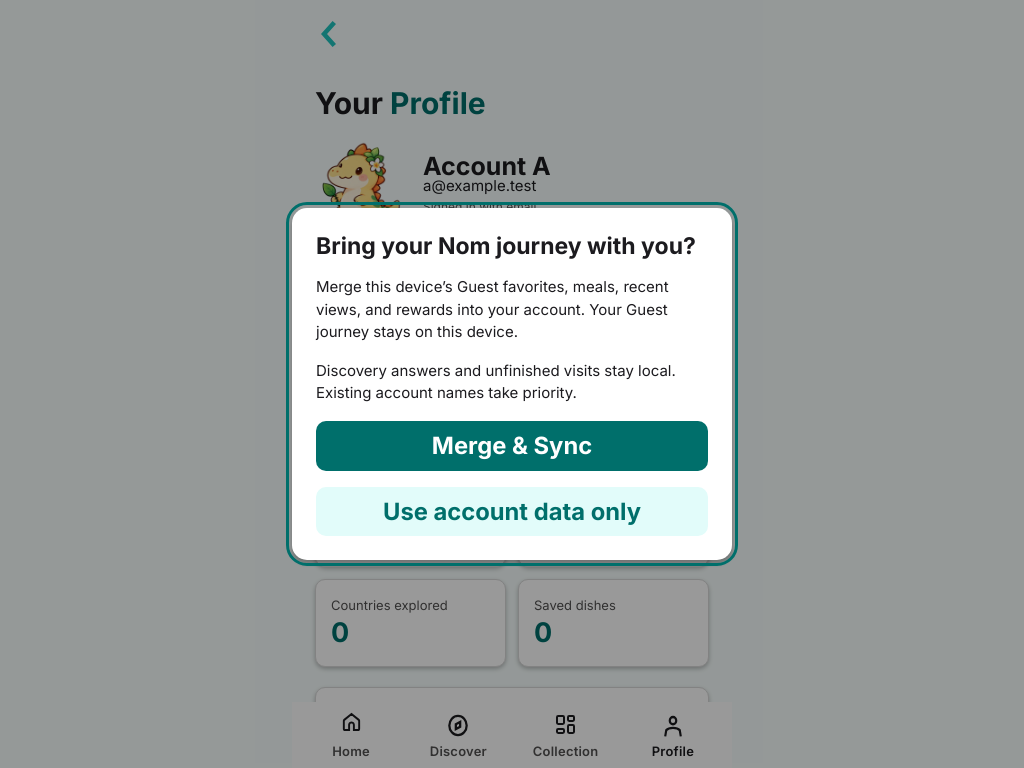
Test case: account routes and Guest-first entry › restores signed-in Profile identity and signout returns to Guest name
Expected: the dialog shows "Bring your Nom journey", [316,232,696,260]
Click the button "Use account data only".
click(512, 511)  # box [316,487,708,536]
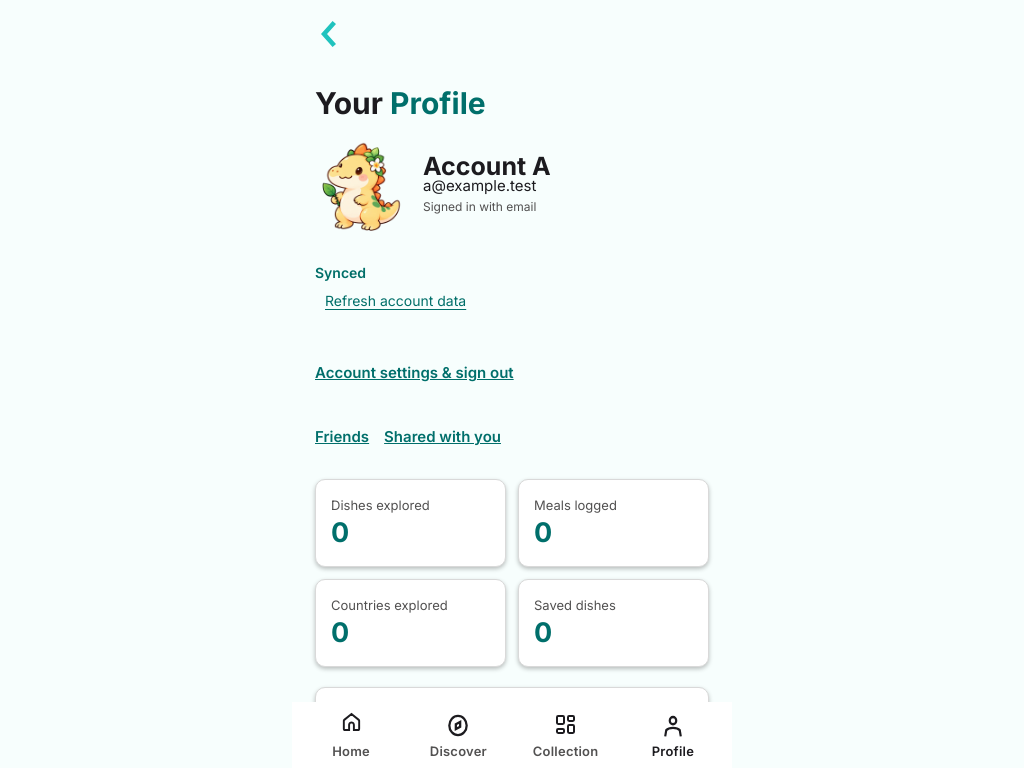
Expected: the text "Account A" is shown, [423,156,551,176]
Expected: the text "a@example.test" is shown, [423,176,551,196]
Click the link "Account settings & sign out".
click(414, 372)  # box [315,363,514,382]
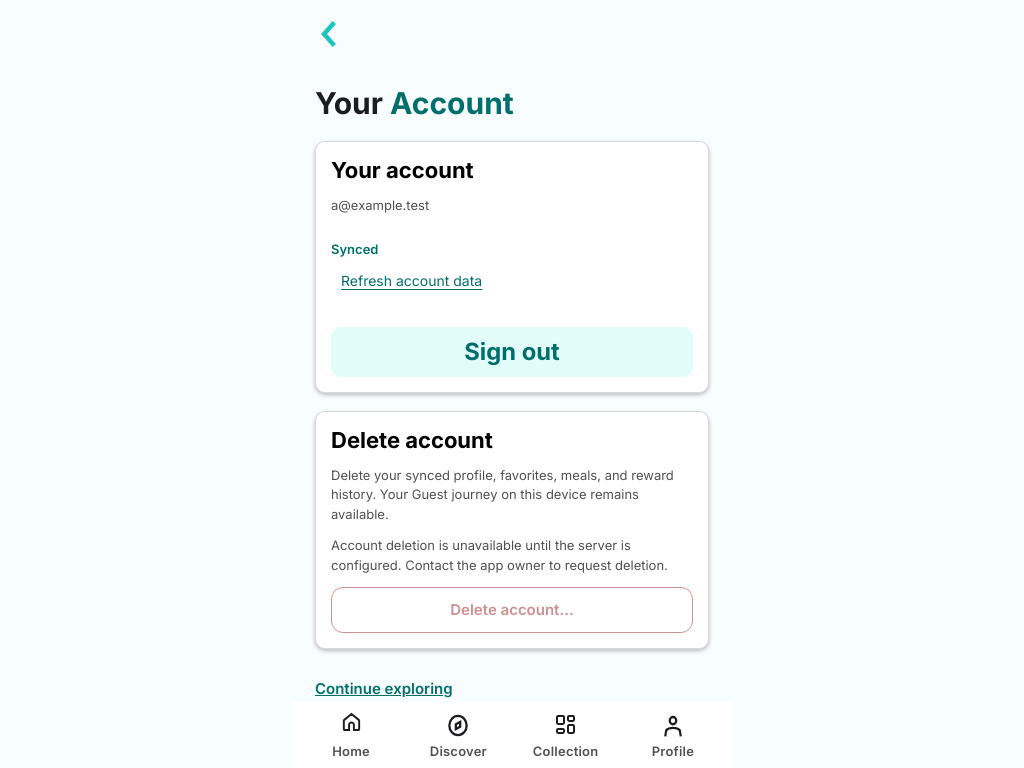
Expected: the text "Account deletion is unavailable" is shown, [331,537,668,573]
Click the button "Sign out".
click(512, 352)  # box [331,327,693,377]
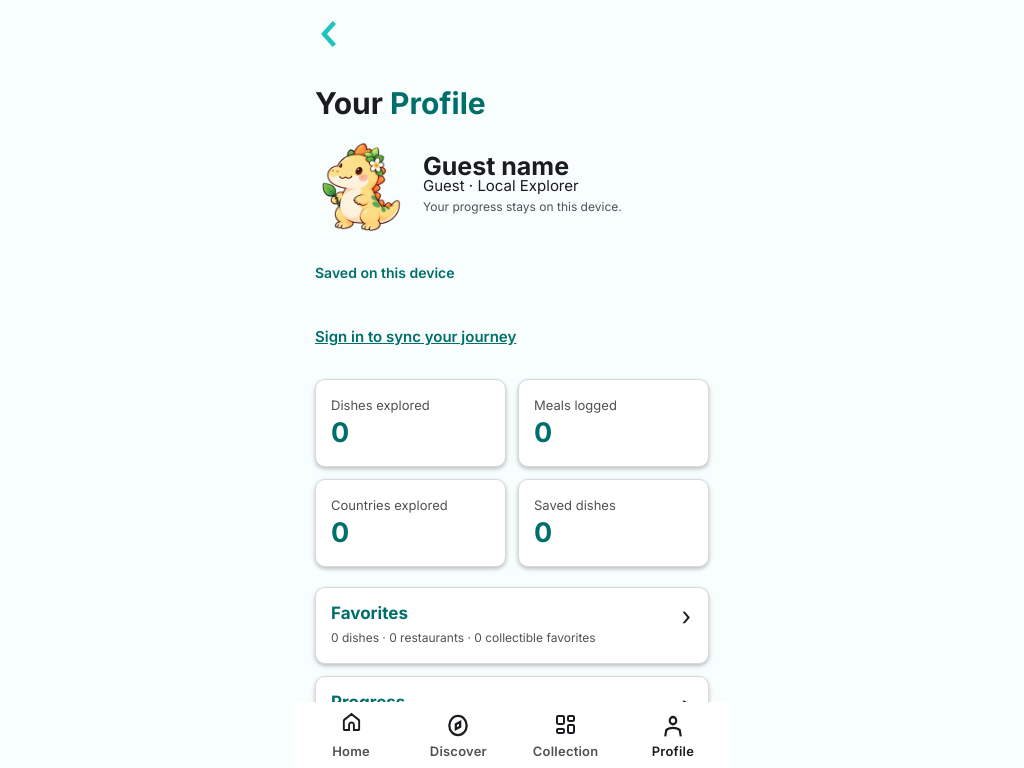
Expected: the text "Guest name" is shown, [423,150,569,180]
Expected: the text "a@example.test" is gone
